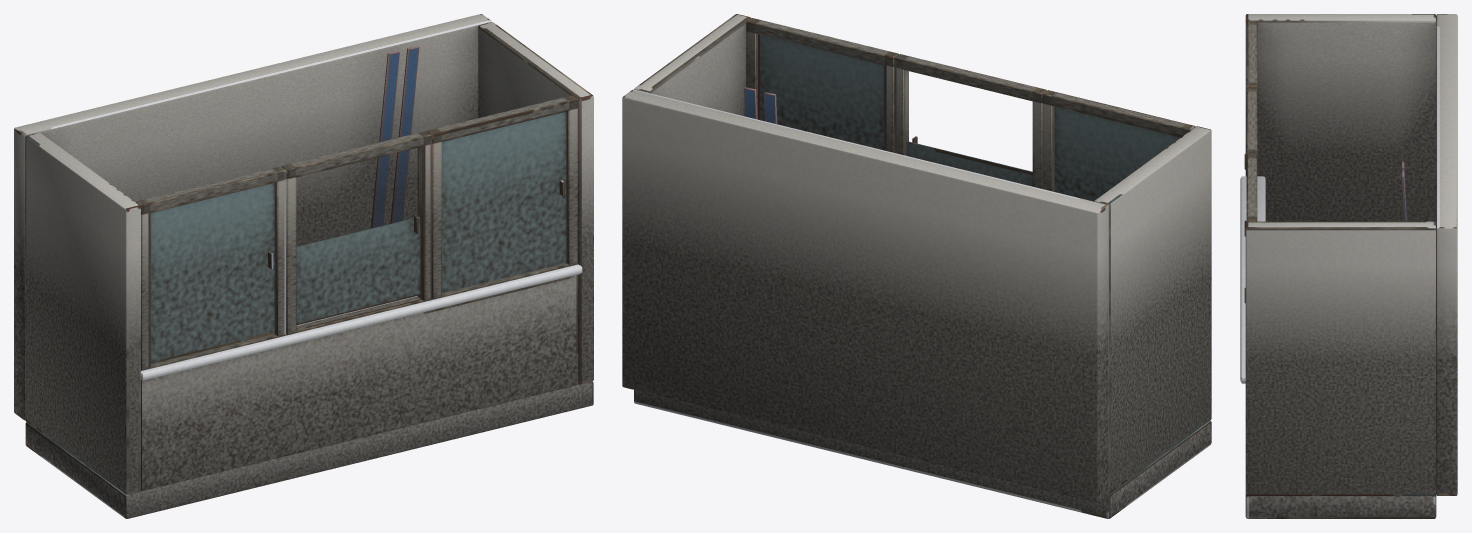
The model's file is g67_fx_balcony_a.glb.
3 views of the same model, side by side, from view 1: azimuth 30°, elevation 25°; view 2: azimuth 150°, elevation 25°; view 3: azimuth 270°, elevation 25° (orthographic). The views are drawn at different scales.
Parts seen in each view (by area): view 1: wall_back, parapet, wall_s, gl, gl.001, slab, wall_s.001, gl_half, snow_par, fr.007, fr.004, fr (+11 smaller); view 2: wall_back, wall_s, gl.001, slab, gl, wall_s.001, fr.008, fr, fr.004, gl_half, fr.007, fr.003 (+3 smaller); view 3: wall_s.001, wall_s, wall_back, slab, snow_par, fr.008, fr.004, fr.
Part boxes in pixels (x1,y1,x2,y2): wall_back: (14, 14, 491, 420); parapet: (141, 274, 578, 490); wall_s: (25, 132, 140, 494); gl: (150, 183, 274, 364); gl.001: (442, 111, 566, 292); slab: (25, 381, 593, 518); wall_s.001: (478, 22, 593, 384); gl_half: (296, 216, 420, 325); snow_par: (139, 264, 582, 380); fr.007: (417, 131, 432, 301); fr.004: (282, 131, 432, 178); fr: (136, 166, 286, 214); wall_back: (622, 89, 1108, 502); wall_s: (1094, 126, 1211, 494); gl.001: (758, 34, 884, 150); slab: (634, 390, 1211, 518); gl: (1054, 107, 1180, 201); wall_s.001: (634, 14, 750, 116); fr.008: (746, 20, 894, 66); fr: (1042, 92, 1189, 137); fr.004: (901, 56, 1042, 102); gl_half: (906, 141, 1032, 186); fr.007: (894, 54, 908, 155); fr.003: (1042, 90, 1055, 191); wall_s.001: (1245, 221, 1436, 495); wall_s: (1245, 14, 1436, 222); wall_back: (1436, 14, 1457, 495); slab: (1245, 495, 1436, 518); snow_par: (1240, 176, 1265, 383); fr.008: (1246, 154, 1257, 221); fr.004: (1246, 91, 1257, 154); fr: (1246, 21, 1257, 83).
Size of the model in its own units: 2.4 by 1.57 by 1.03.
1 material, 1 textured.
